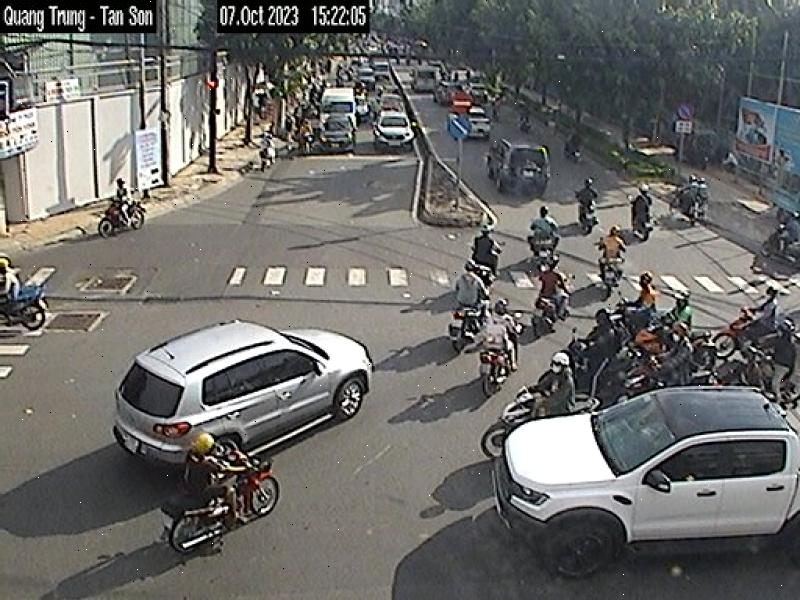car: (492, 386, 800, 579), (114, 320, 376, 460), (487, 139, 553, 194), (374, 110, 414, 154), (320, 116, 357, 154)
motorcycle: (168, 449, 280, 551), (481, 386, 597, 462), (480, 324, 523, 397), (450, 285, 492, 353), (534, 280, 572, 338), (0, 284, 45, 330), (99, 197, 147, 239)
truck: (319, 89, 358, 128), (322, 86, 355, 128)
